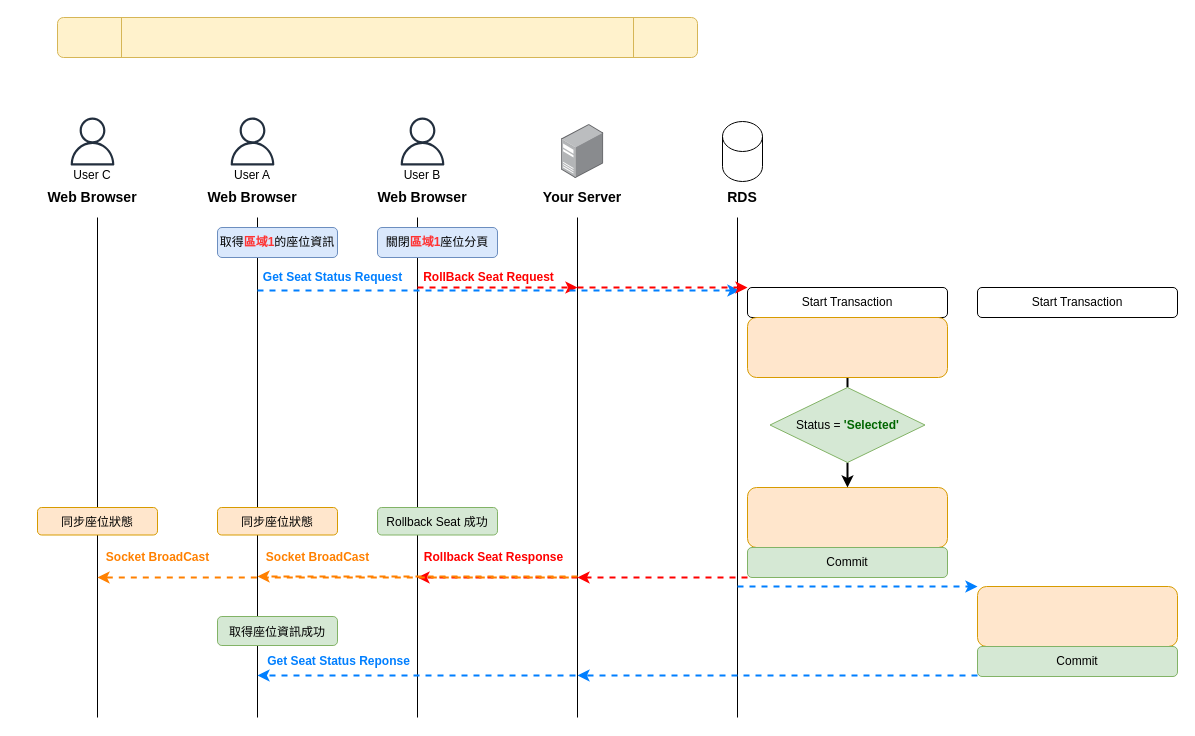
This 1195x736 diagram has some shape labels left out. The shapes that lost their labels are listed below. From the top down, each one's centre as x and y in pixels, then its label:
(x=377, y=37): Case4 不同使用者_選取座位_關閉分頁
(x=847, y=347): SELECT * FROM Seat WHERE id IN (?) FOR UPDATE
(x=847, y=517): UPDATE Status = 'NotSeleted' From Seat WHERE id IN (?)
(x=1077, y=616): SELECT * FROM Seat WHERE area_id = 1 FOR UPDATE
